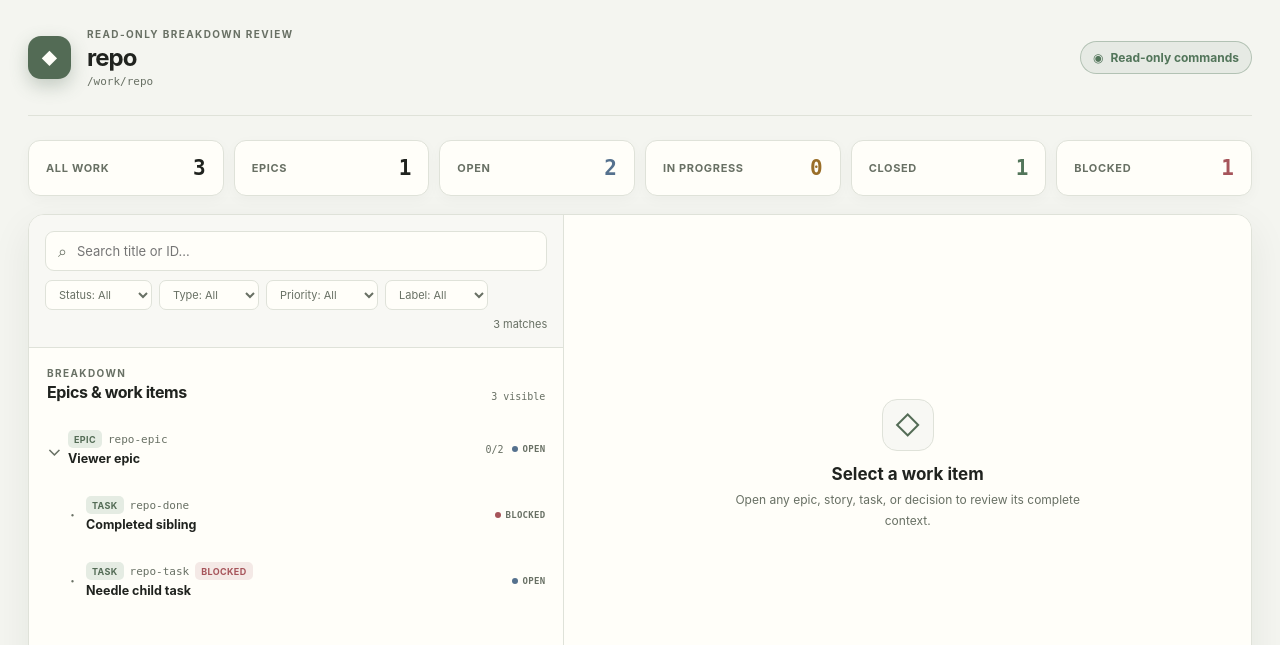
App › counts only the overlapping derived blocked signal
The image size is (1280, 645).
Click the text "Viewer epic". click: [104, 460]
box: [68, 451, 140, 468]
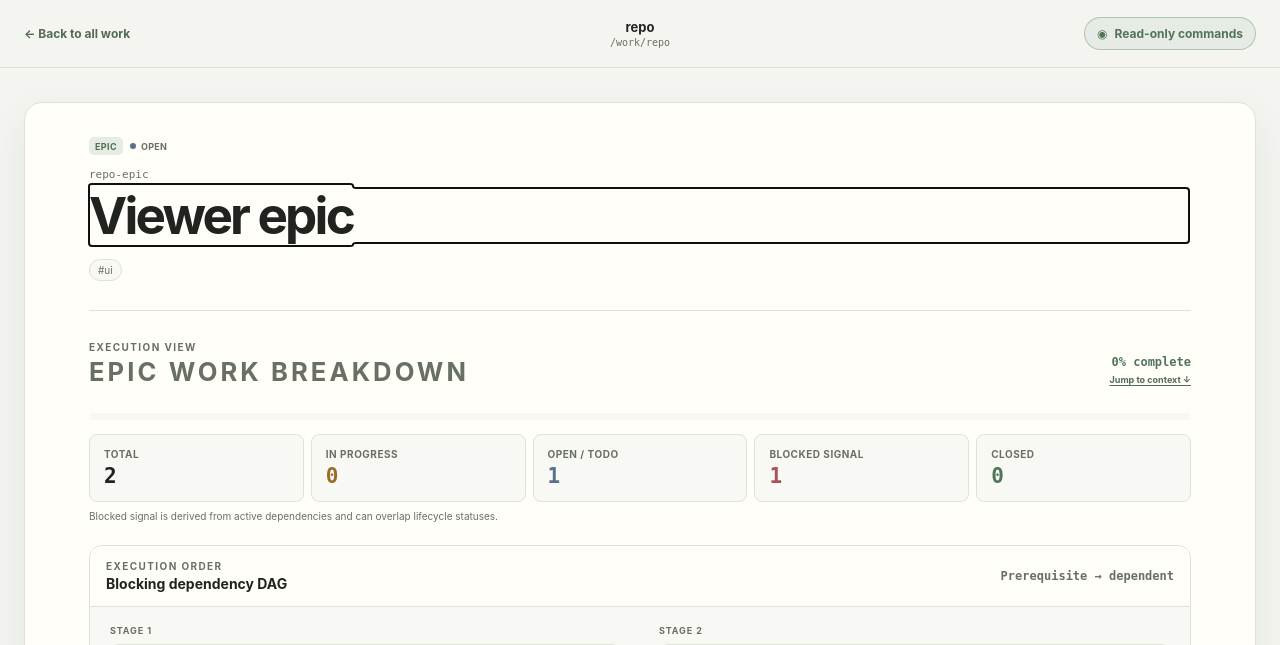
Result: the text "Blocked signal is derived from active dependencies and can overlap lifecycle statuses." is shown at [89, 510, 498, 522]
